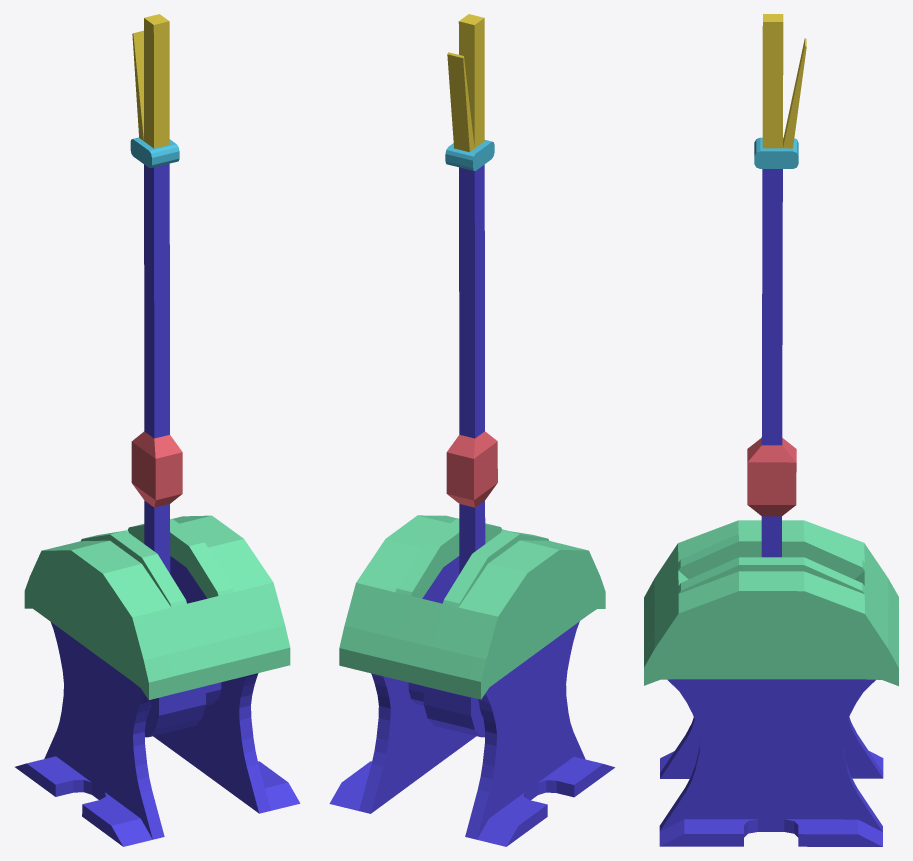
The model's file is LeverSeparated.fbx.
3 views of the same model, side by side, from view 1: azimuth 30°, elevation 25°; view 2: azimuth 150°, elevation 25°; view 3: azimuth 270°, elevation 25° (orthographic). The views are drawn at different scales.
Visible parts, largest first — view 1: Chassis, LeverArm; view 2: Chassis, LeverArm; view 3: Chassis, LeverArm.
Boxes of the visible parts, box(x1,y1,x2,y2) form: Chassis: box(15, 515, 300, 846); LeverArm: box(130, 14, 221, 737); Chassis: box(329, 515, 614, 846); LeverArm: box(408, 14, 497, 737); Chassis: box(644, 520, 898, 846); LeverArm: box(747, 14, 806, 557).
Bounding box in the file's own units: 30 × 124 × 36.5.
